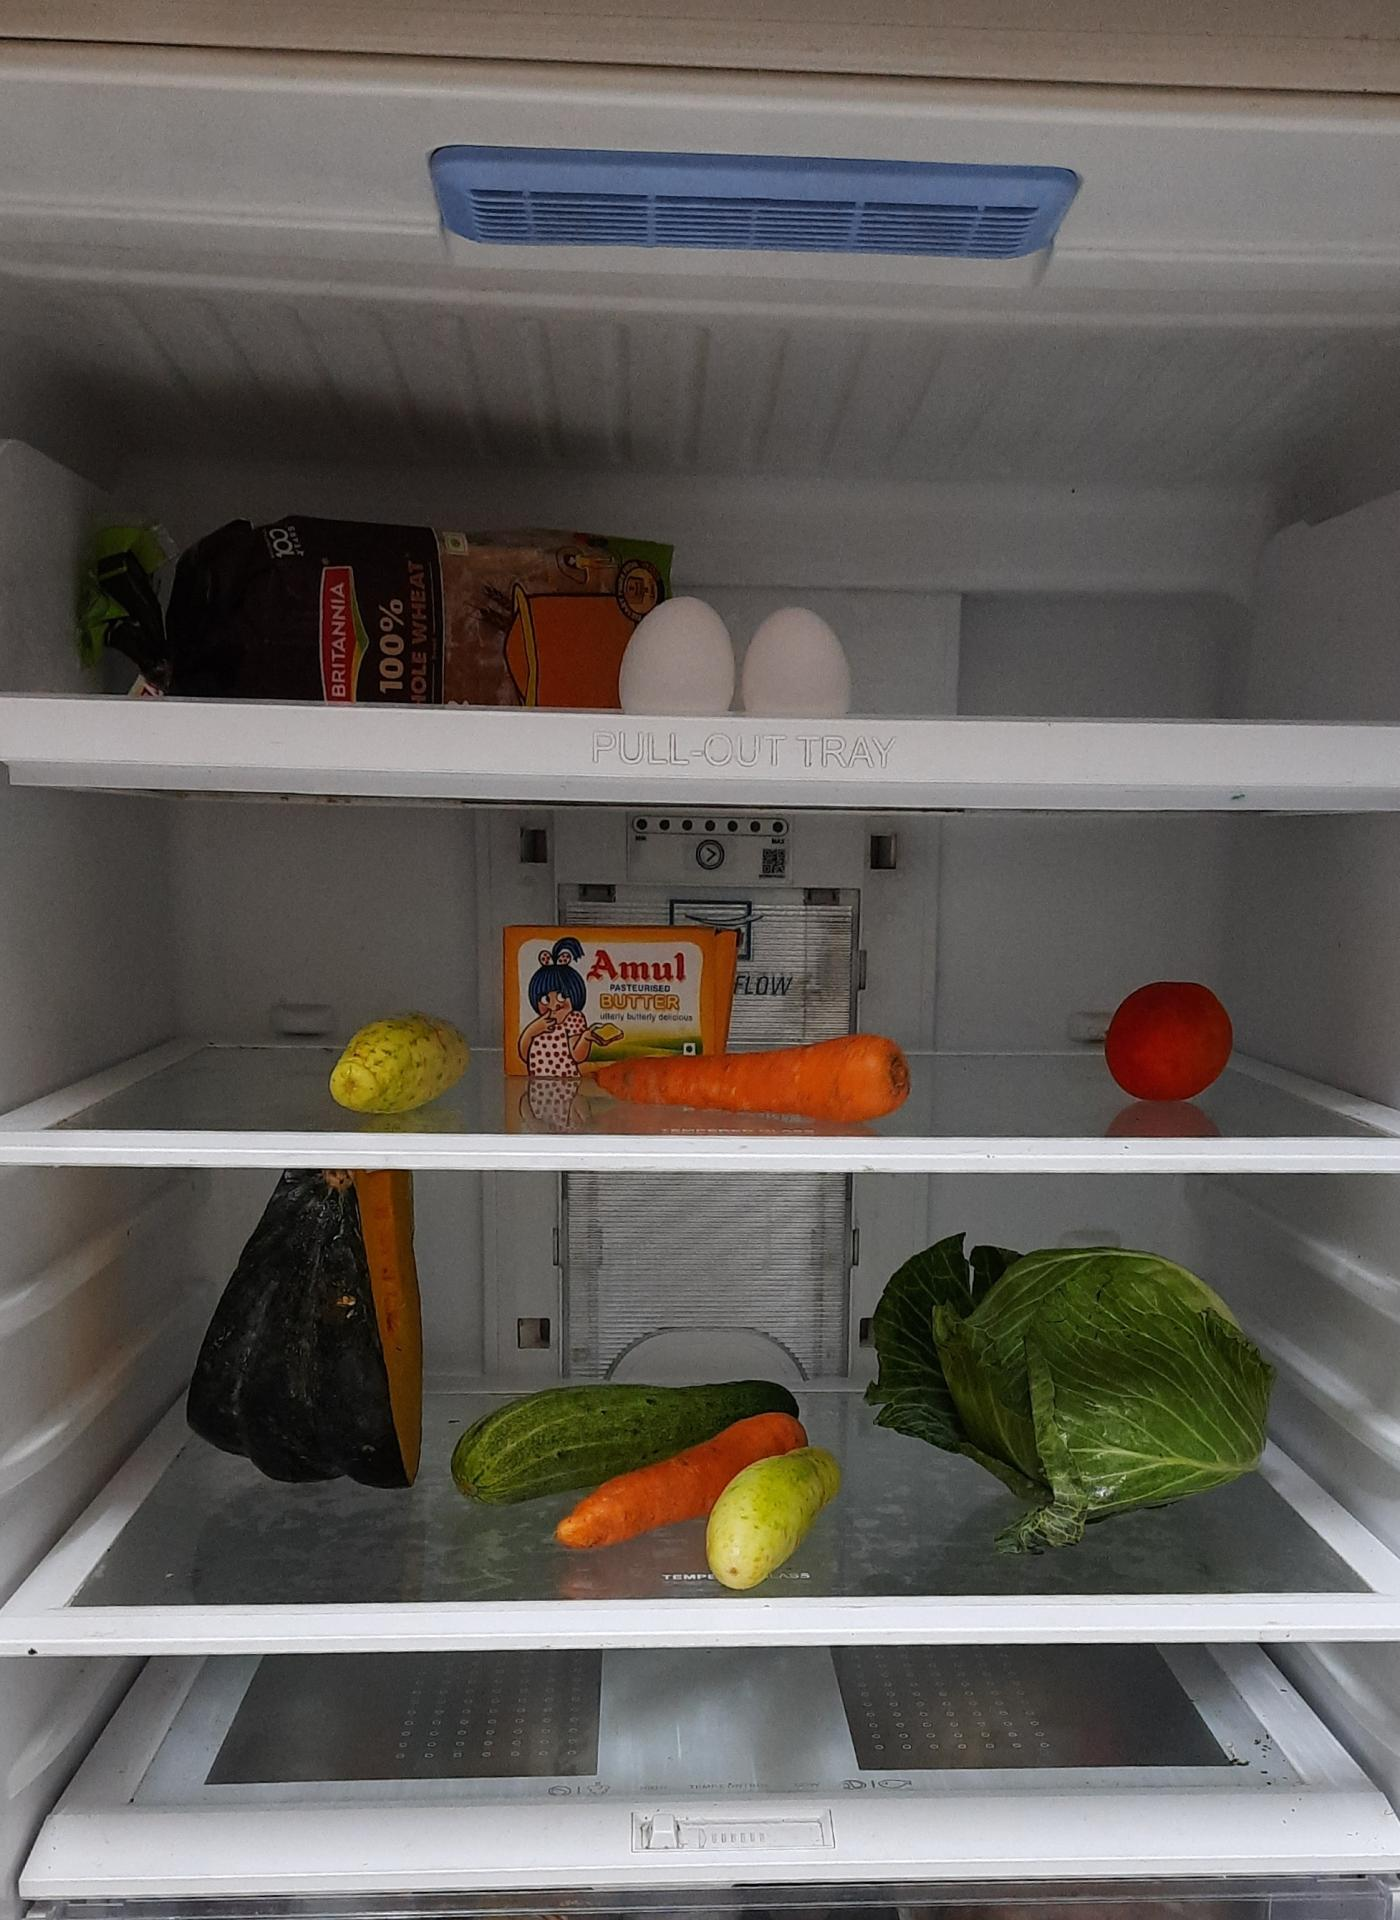bread: (101, 516, 677, 708)
butter: (507, 932, 748, 1069)
cabbage: (869, 1243, 1284, 1528)
carrots: (562, 1415, 813, 1553), (595, 1038, 921, 1114)
cucumber: (453, 1373, 802, 1486), (702, 1444, 844, 1586), (328, 1012, 474, 1114)
egg: (607, 587, 862, 714)
pumpkin: (188, 1167, 429, 1486)
tomato: (1100, 981, 1235, 1105)
